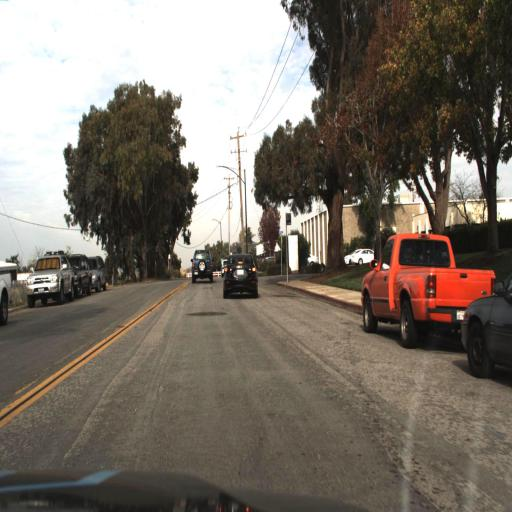car: (357, 222, 466, 364), (459, 262, 512, 384), (21, 243, 78, 312), (215, 249, 263, 305), (221, 250, 260, 300), (190, 244, 219, 290), (85, 249, 113, 292), (71, 248, 91, 305), (67, 249, 89, 297), (347, 240, 381, 269), (0, 268, 13, 336), (302, 247, 321, 273)
